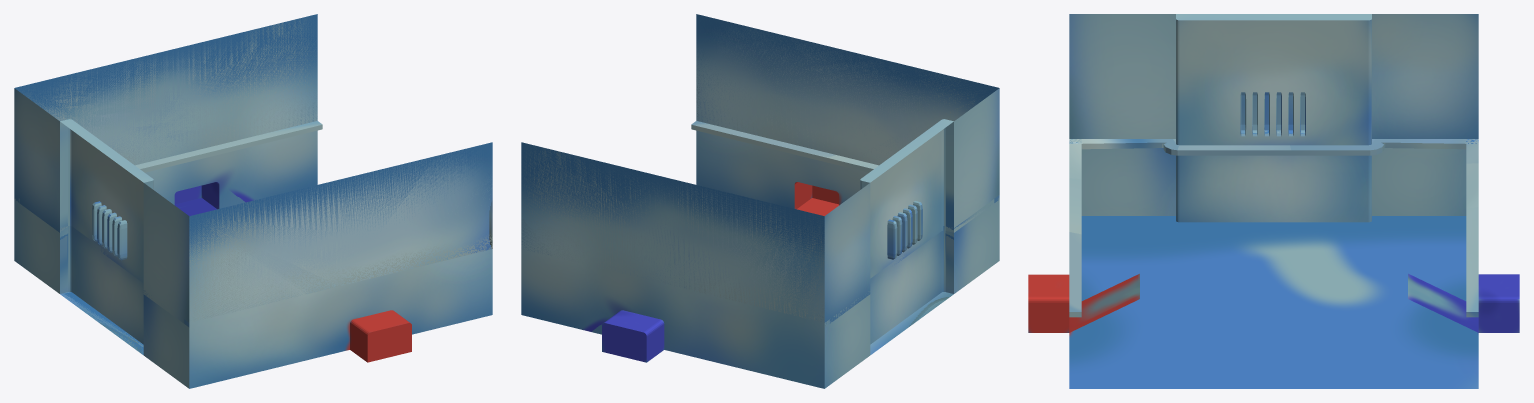
Rendered from Freezer.fbx.
3 renders of one model, left to right at view 1: azimuth 30°, elevation 25°; view 2: azimuth 150°, elevation 25°; view 3: azimuth 270°, elevation 25°, orthographic. The views are drawn at different scales.
Parts seen in each view (by area): view 1: Plane.001; view 2: Plane.001; view 3: Plane.001.
Part boxes in pixels (x1,y1,x2,y2): Plane.001: (14, 14, 492, 388); Plane.001: (521, 14, 999, 388); Plane.001: (1028, 14, 1519, 388).
Size of the model in its own units: 1477 by 804 by 1774.
